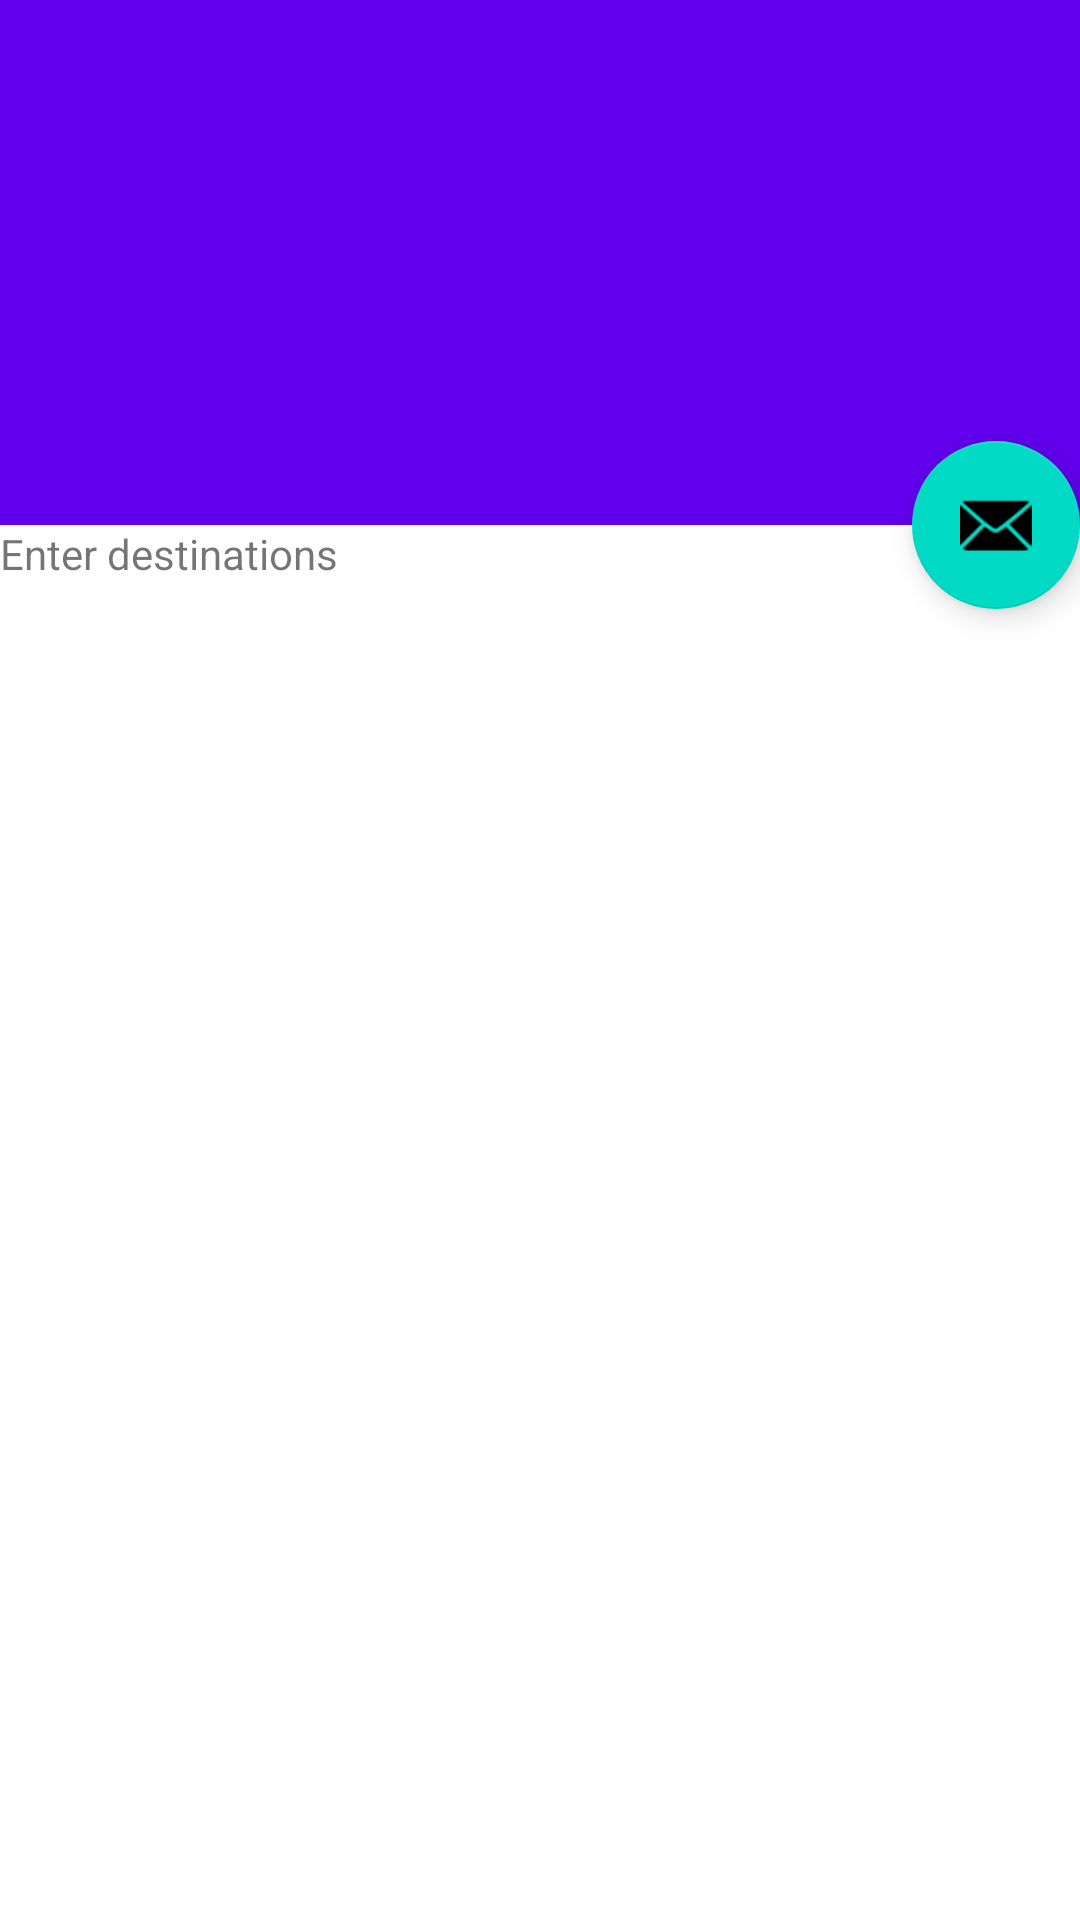

Icon click points for this 1080 × 1920 phone screenshot, format point (x, y):
email: point (996, 525)
